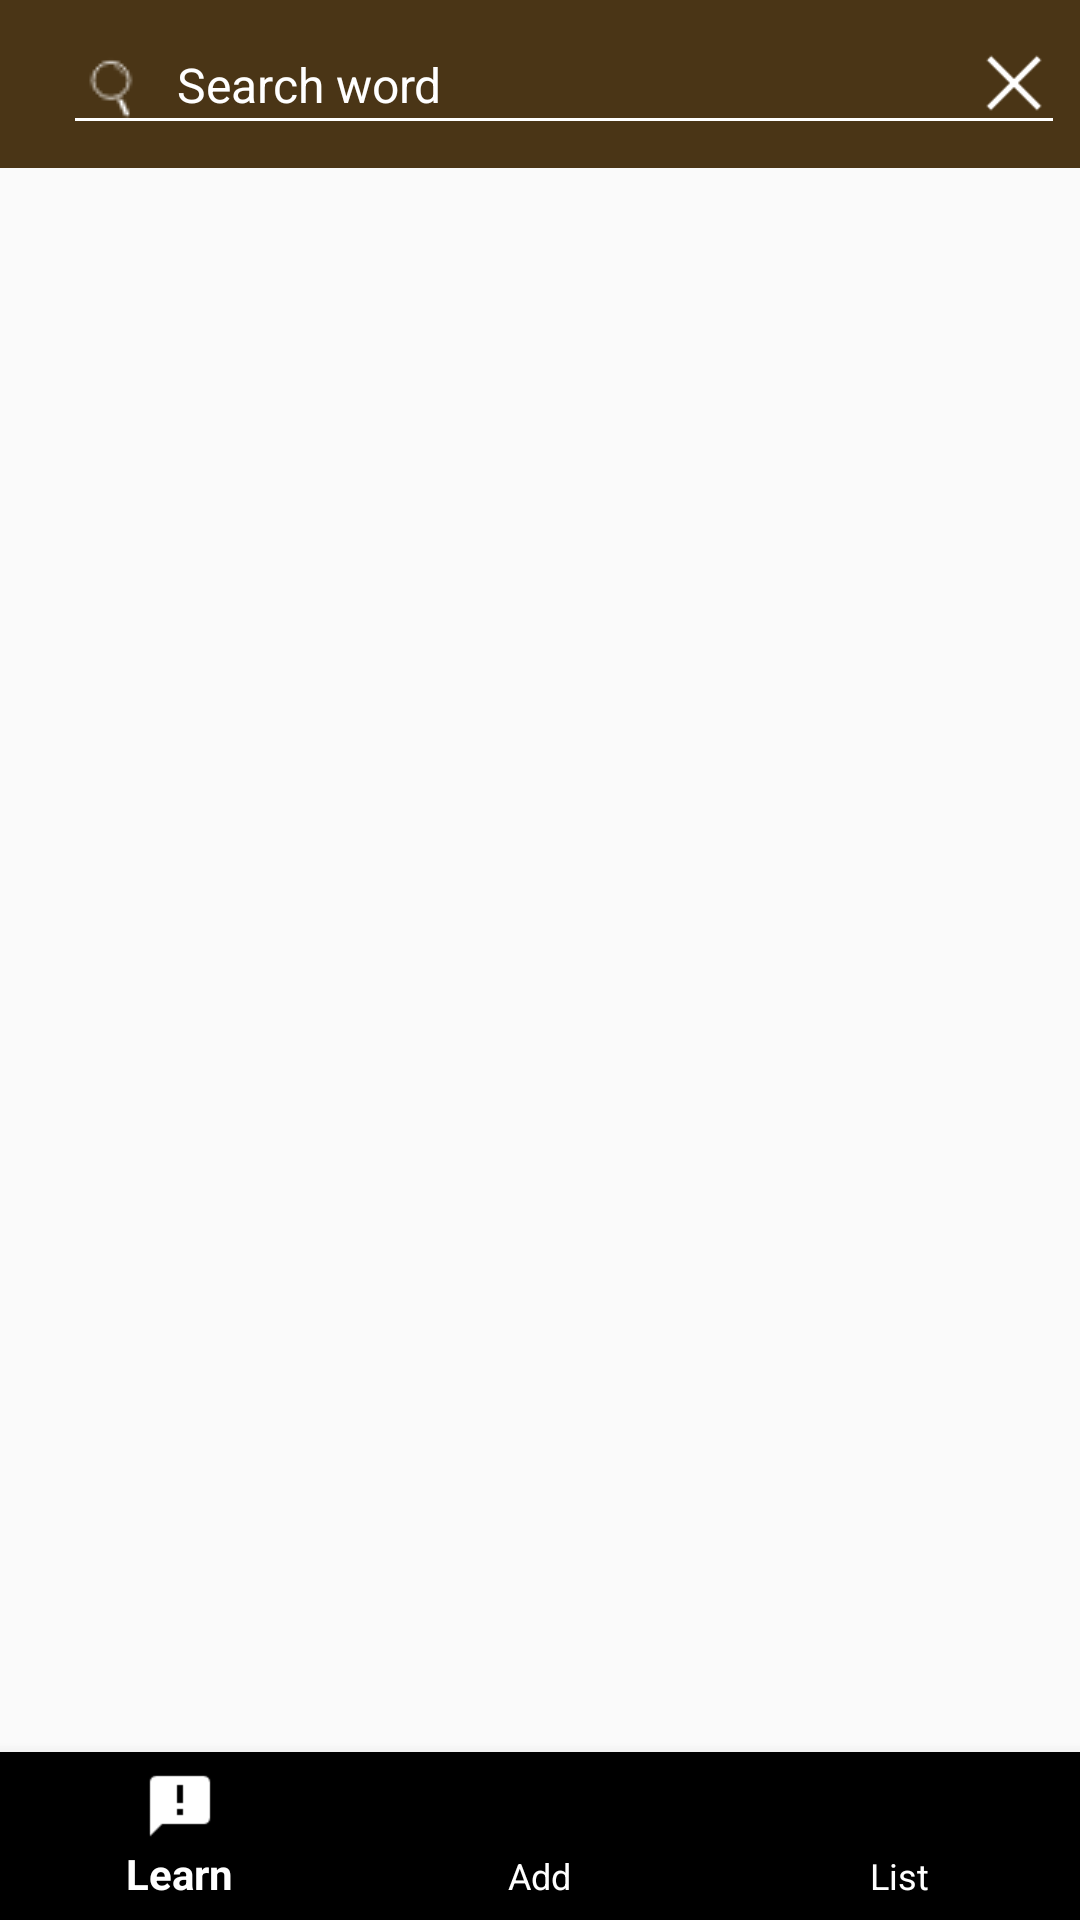

Screen size 1080*1920. Icon name, then its box in pixels as (x1, y1, x2, y2):
cross: (986, 55, 1042, 111)
